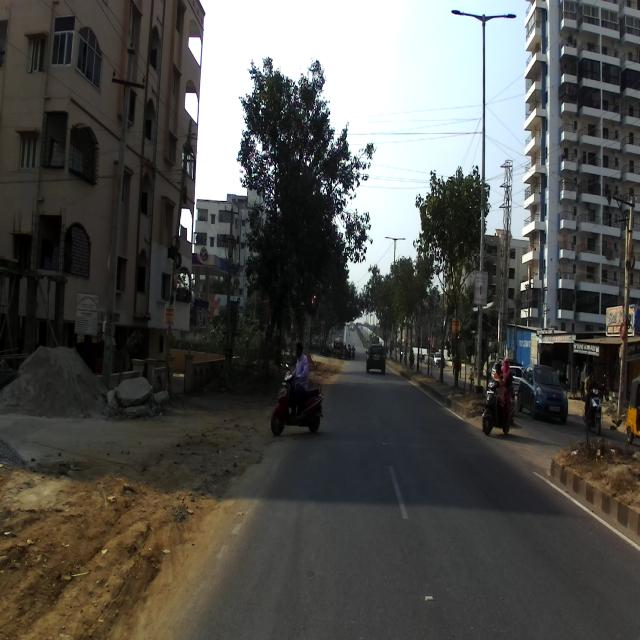motorcycle ahead at: (268, 363, 328, 448)
stones ahead at: (109, 364, 161, 418)
